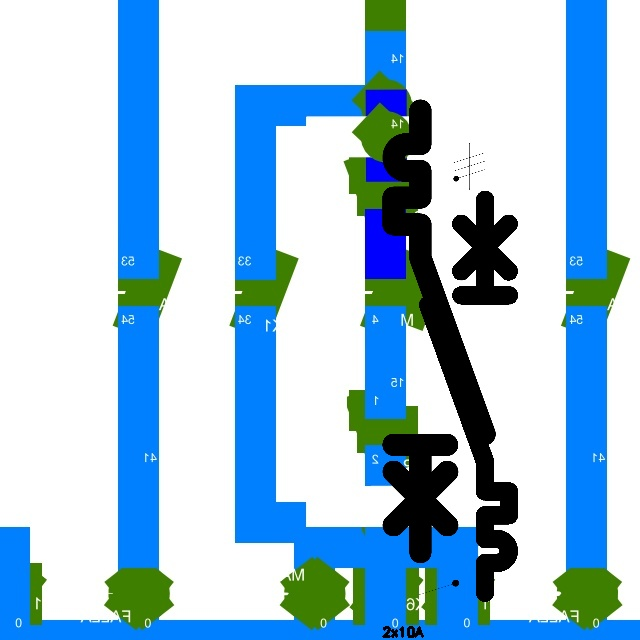interruptor_termomagnetico: (382, 99, 495, 563), (418, 189, 519, 602)
